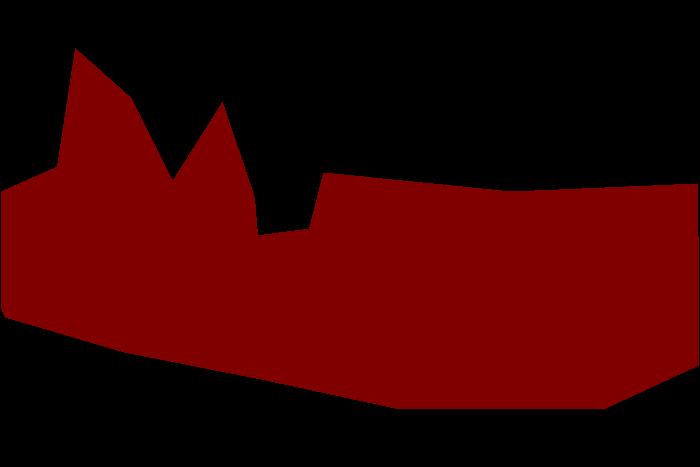fire: (1, 48, 698, 409)
